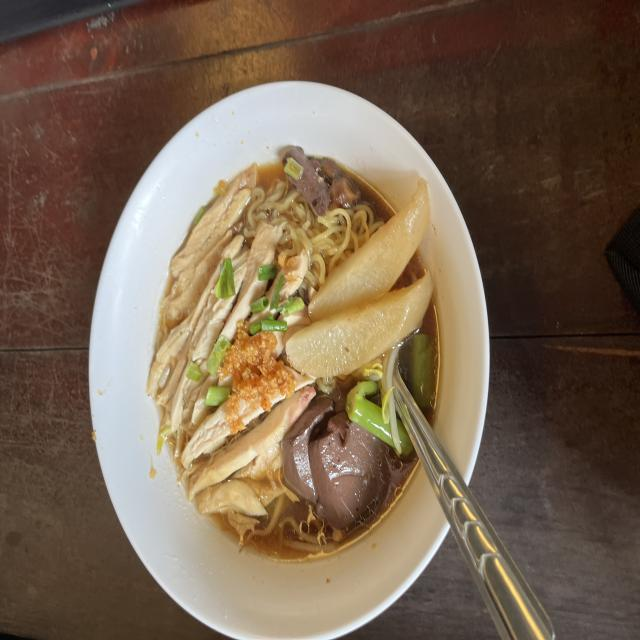noodle: (290, 401, 374, 515)
